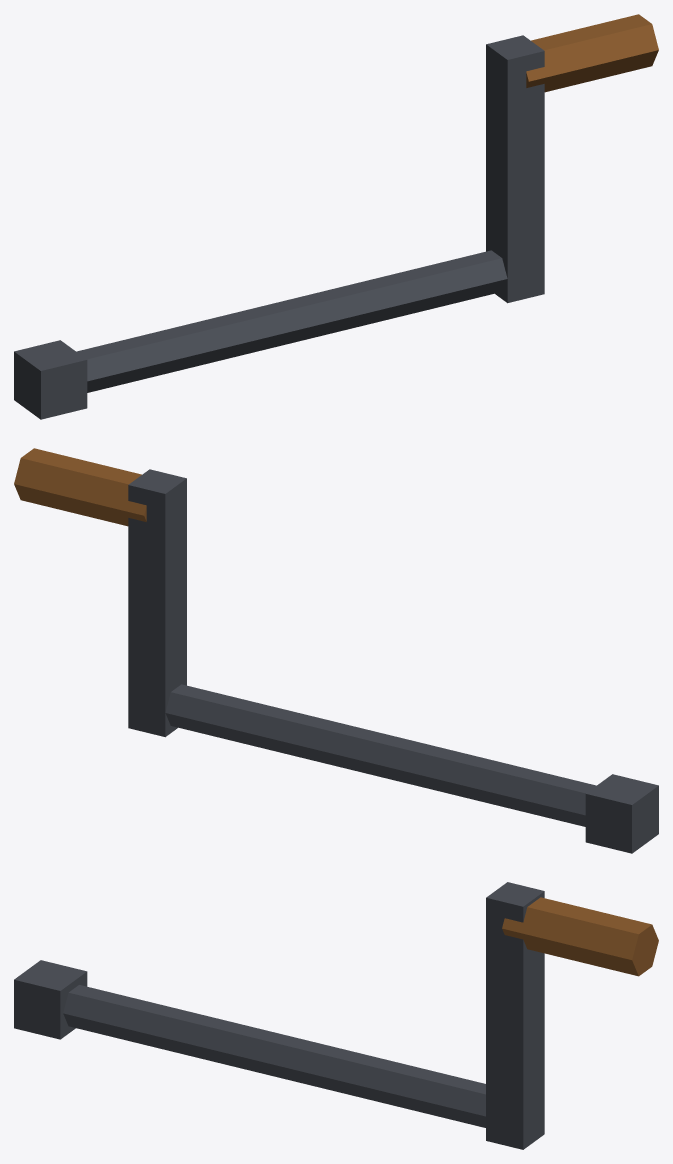
Rendered from lift_crank.glb.
3 views of the same model, one above another, from view 1: azimuth 30°, elevation 25°; view 2: azimuth 150°, elevation 25°; view 3: azimuth 330°, elevation 25° (orthographic).
Visible parts, largest first — view 1: crank_iron, crank_handle_wood; view 2: crank_iron, crank_handle_wood; view 3: crank_iron, crank_handle_wood.
Part boxes in pixels (x1,y1,x2,y2): crank_iron: (14,35,544,419); crank_handle_wood: (526,14,658,92); crank_iron: (128,469,658,853); crank_handle_wood: (14,448,146,526); crank_iron: (14,882,544,1149); crank_handle_wood: (502,897,658,976).
Size of the model in its own units: 0.665 by 0.25 by 0.05.
